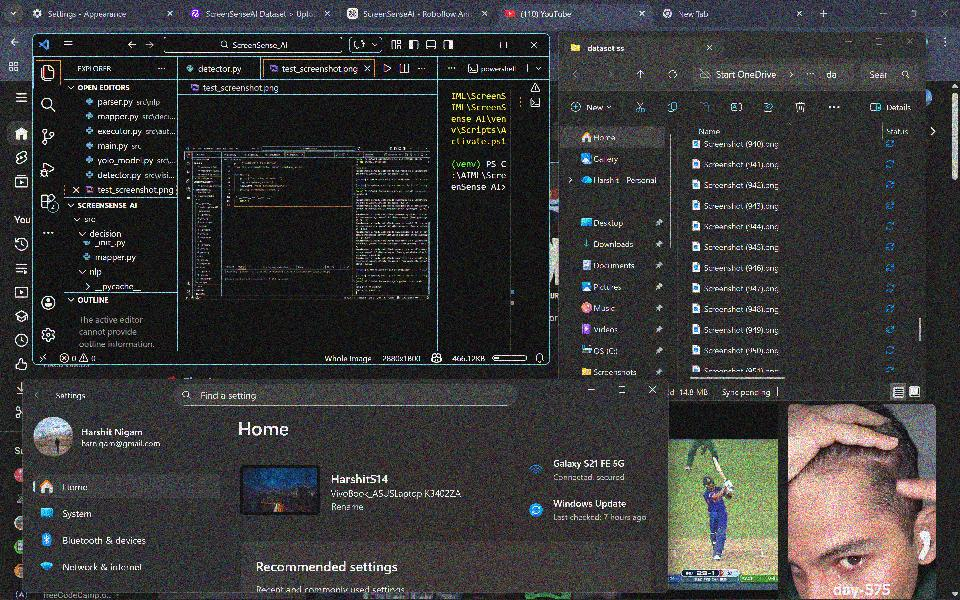close_button: (524, 36, 547, 54), (900, 35, 922, 52), (934, 7, 956, 22), (644, 380, 662, 398)
maximize_button: (491, 35, 517, 54), (610, 381, 634, 399), (868, 34, 891, 51), (905, 7, 924, 24)
minimize_button: (463, 35, 486, 55), (839, 34, 863, 52), (874, 6, 895, 22), (582, 381, 601, 398)
